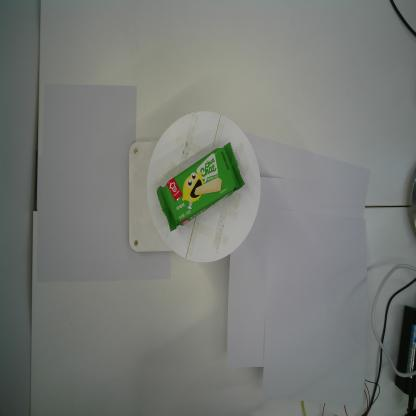Dessert: (157, 141, 245, 233)
